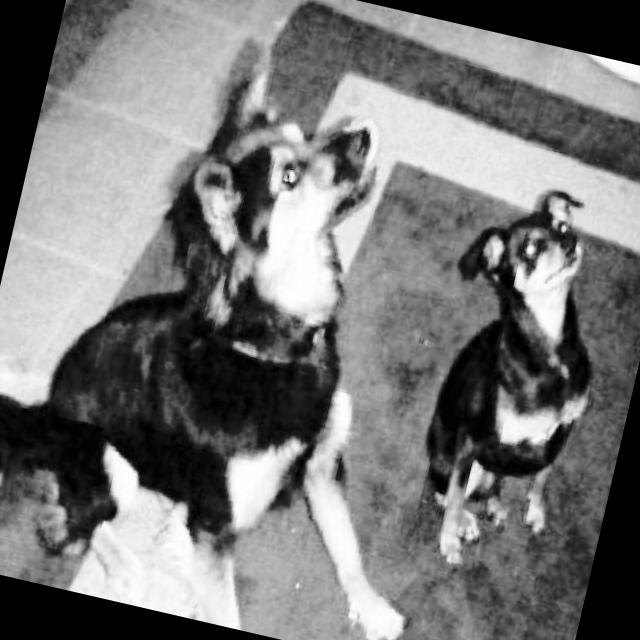Dog: (0, 22, 523, 640), (385, 160, 640, 594)
